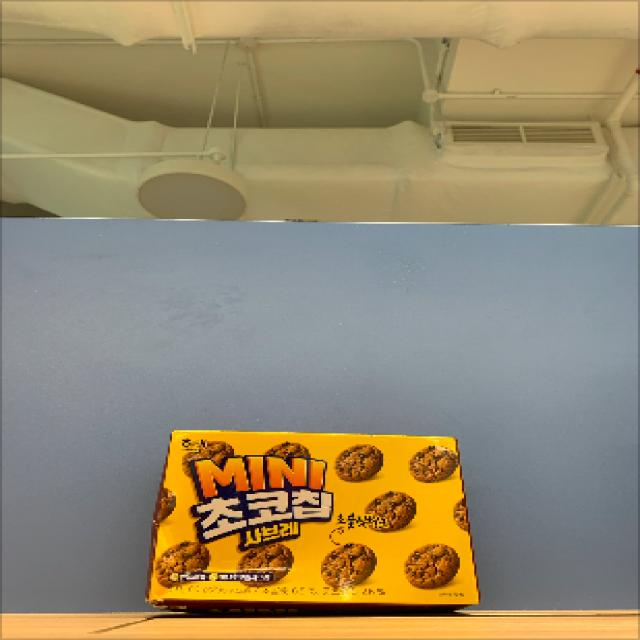object_name: (156, 428, 477, 603)
